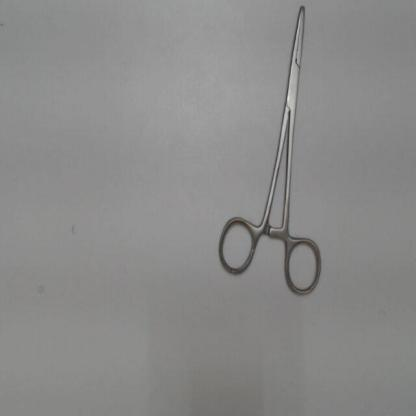Mayo Needle Holder: (211, 3, 329, 304)
